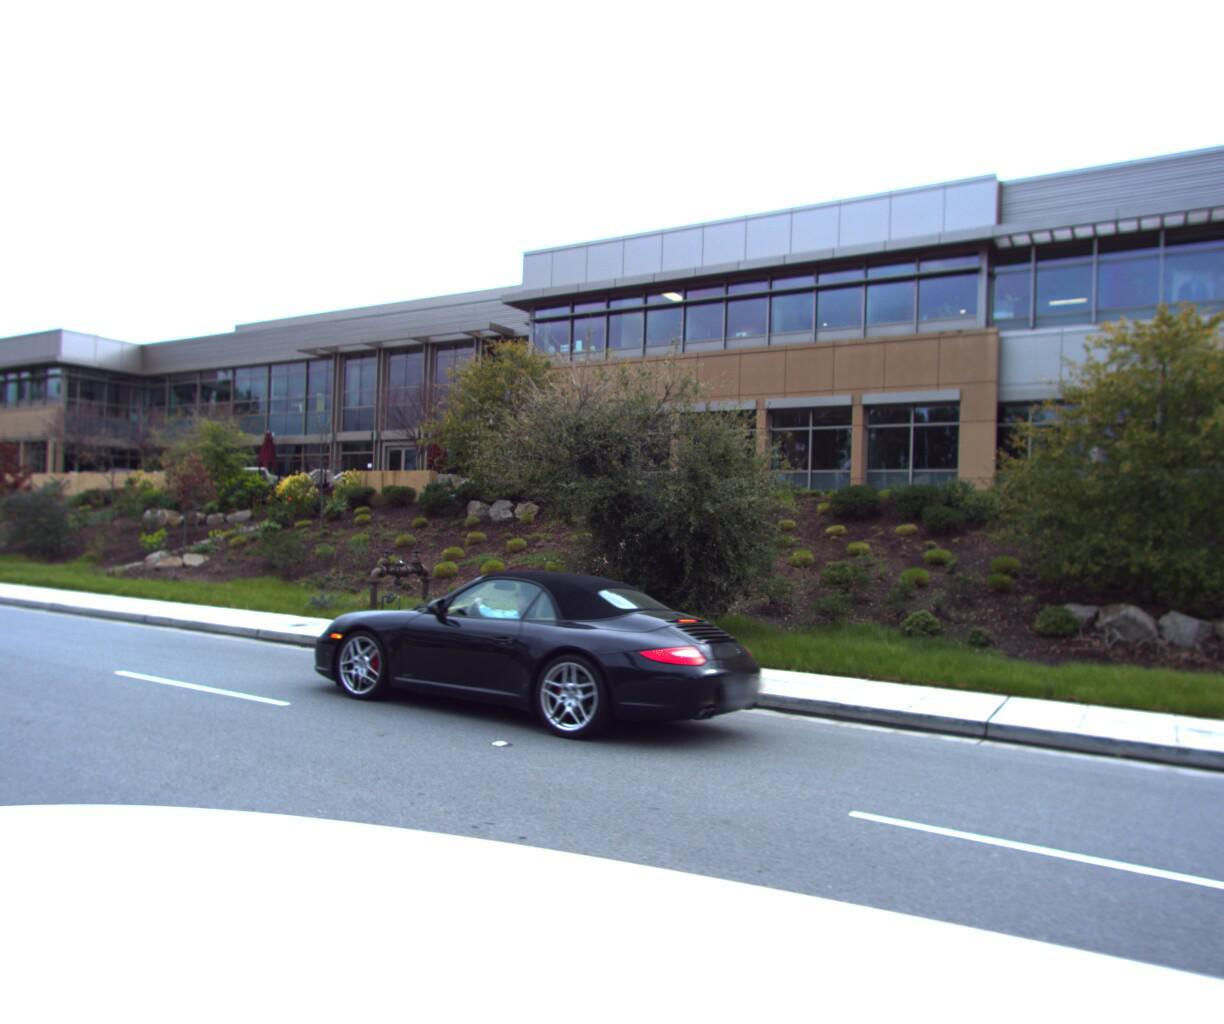car: (291, 564, 794, 788)
